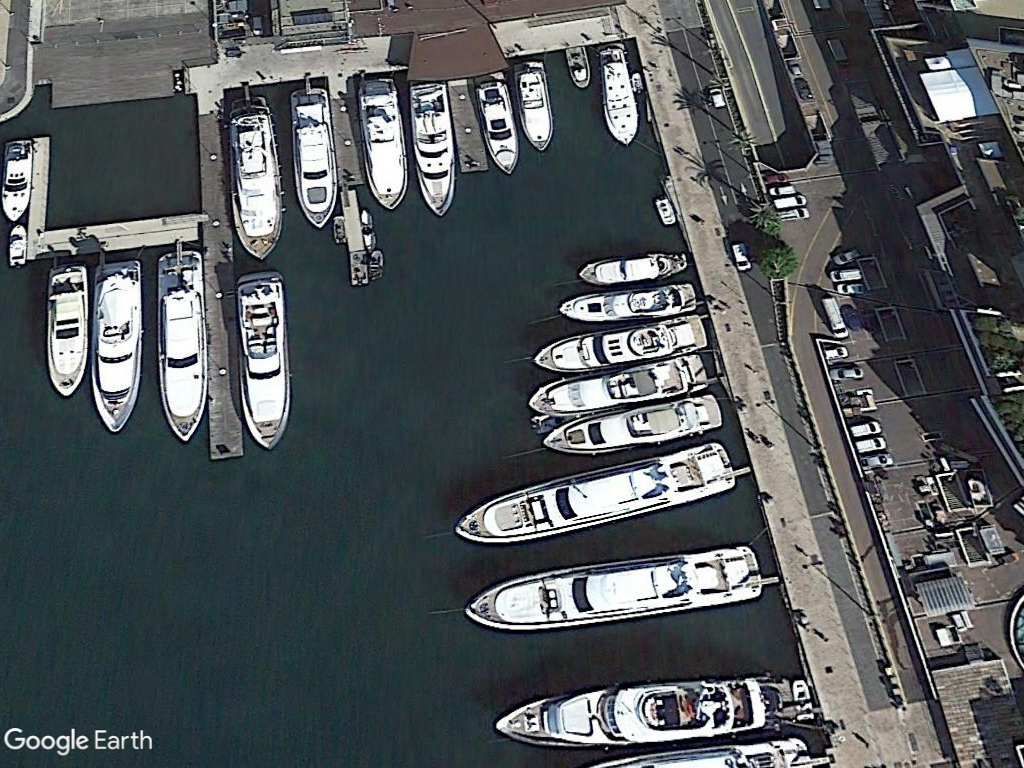boat: (451, 436, 739, 543), (461, 538, 765, 637), (492, 671, 793, 750), (519, 388, 721, 461), (523, 351, 707, 420), (156, 246, 212, 452), (528, 310, 706, 374), (235, 268, 294, 458), (226, 92, 288, 263), (95, 256, 144, 441), (402, 78, 461, 219), (288, 85, 339, 233), (354, 75, 407, 213), (552, 277, 694, 326), (46, 260, 91, 403), (470, 74, 519, 176), (572, 246, 688, 288), (597, 40, 639, 147), (512, 58, 559, 152), (2, 135, 31, 224), (565, 44, 593, 91), (5, 219, 29, 268)
van: (818, 295, 854, 340), (846, 419, 887, 437)
